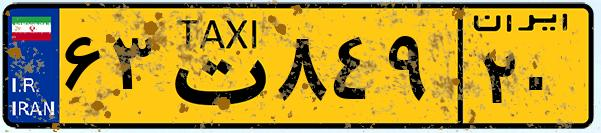0: (525, 38, 570, 115)
2: (475, 38, 525, 113)
3: (110, 28, 158, 98)
4: (330, 28, 385, 110)
6: (57, 26, 110, 100)
8: (270, 28, 330, 110)
9: (385, 28, 445, 110)
ت: (158, 12, 270, 120)
